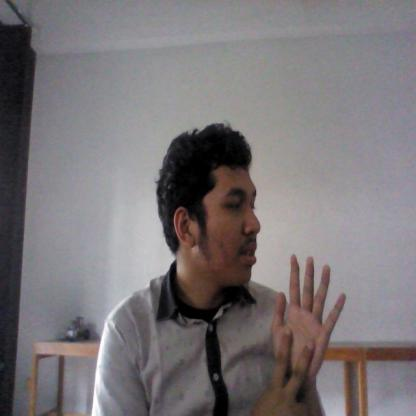N: (258, 249, 349, 416)
